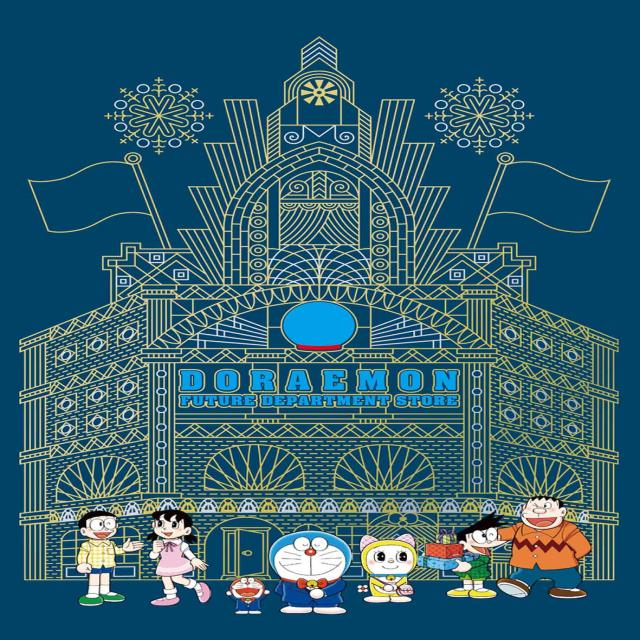doraemon: (267, 524, 359, 597)
jaian: (69, 504, 128, 547), (515, 493, 572, 536)
shizuka: (144, 507, 200, 549)
suneo: (450, 510, 510, 562)
